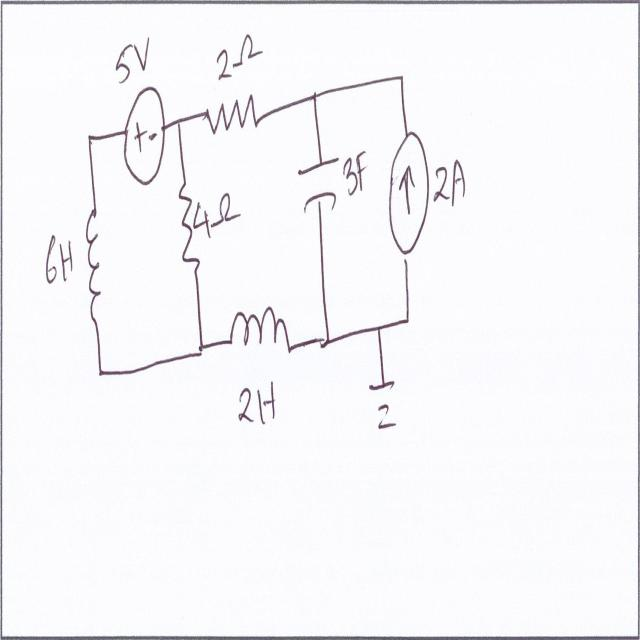capacitor: (293, 148, 341, 229)
current_source: (388, 123, 431, 262)
ground: (364, 364, 404, 445)
inductor: (226, 294, 292, 375), (80, 200, 105, 324)
resistor: (205, 90, 264, 146), (176, 172, 199, 274)
voltage_source: (120, 83, 167, 189)
